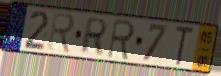2: (22, 10, 51, 52)
7: (141, 22, 169, 64)
R: (105, 18, 137, 63), (46, 11, 76, 56), (78, 17, 110, 56)
T: (173, 24, 196, 68)
